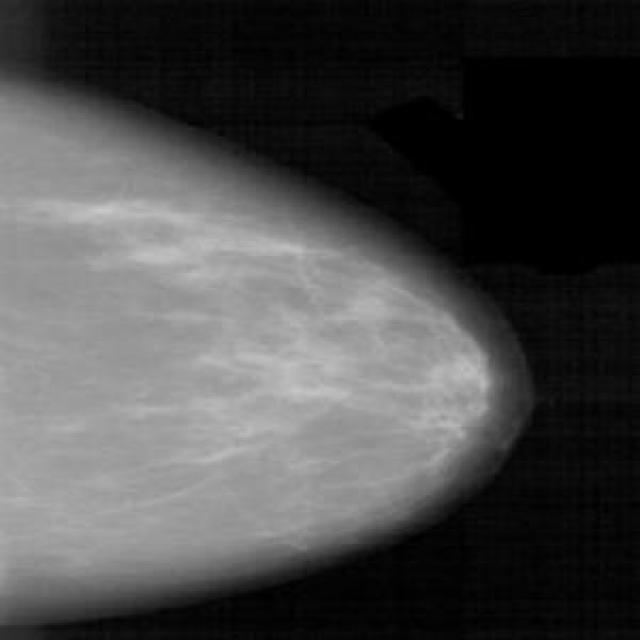tumor: (230, 322, 495, 448)
